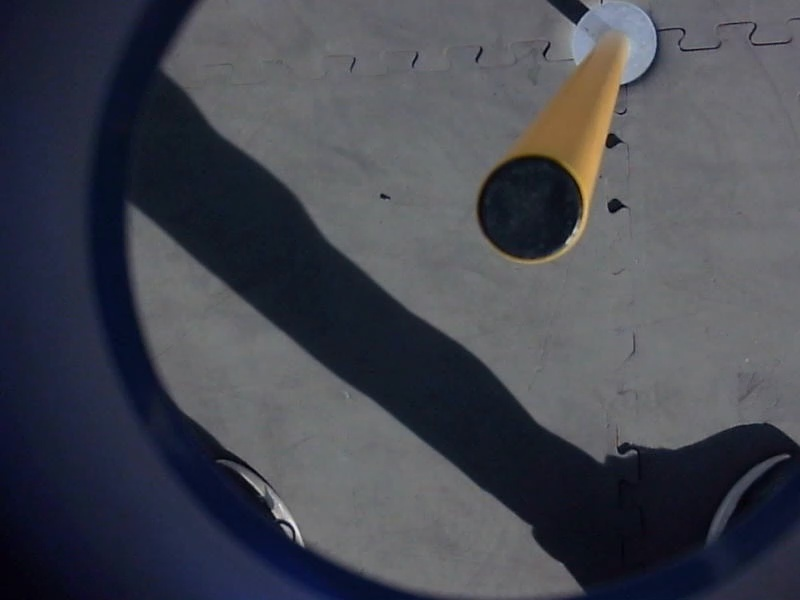tip: (469, 149, 593, 270)
